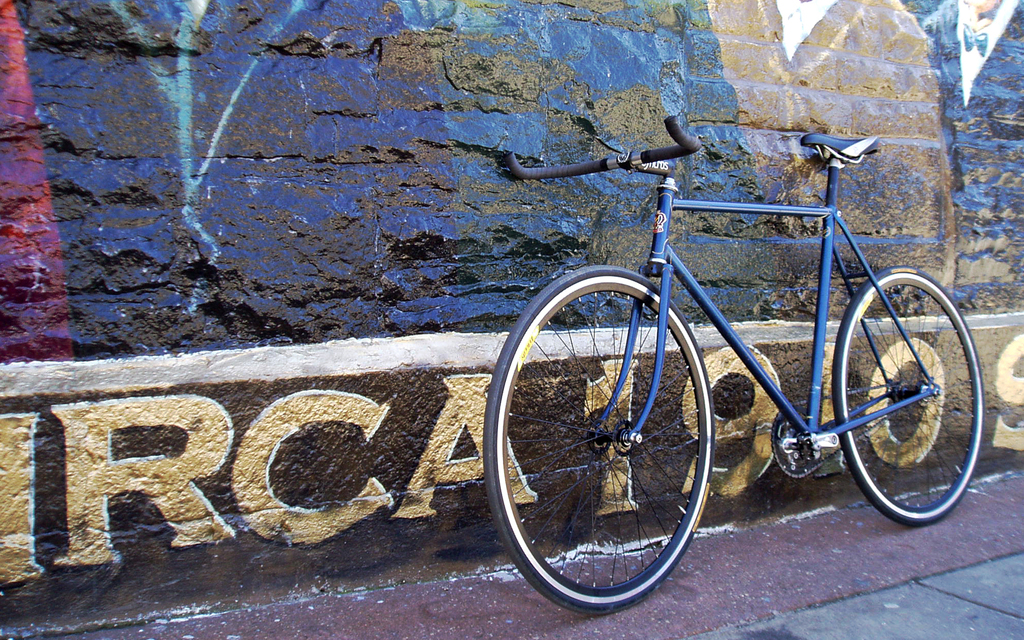Bike: (430, 155, 980, 585)
